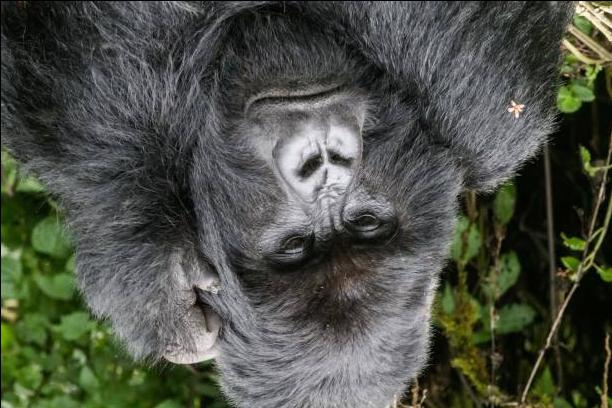goriile_montagne: (20, 1, 514, 408)
